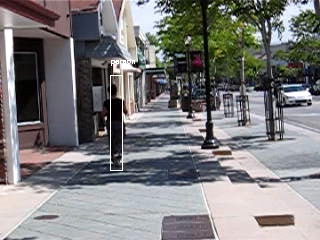person: (101, 84, 128, 170), (100, 84, 127, 170), (102, 84, 129, 170), (101, 83, 128, 169), (101, 85, 128, 171)
target_negative: (76, 32, 309, 187), (154, 32, 265, 93), (163, 187, 269, 236), (178, 200, 265, 218), (39, 126, 222, 130), (204, 220, 260, 231)
